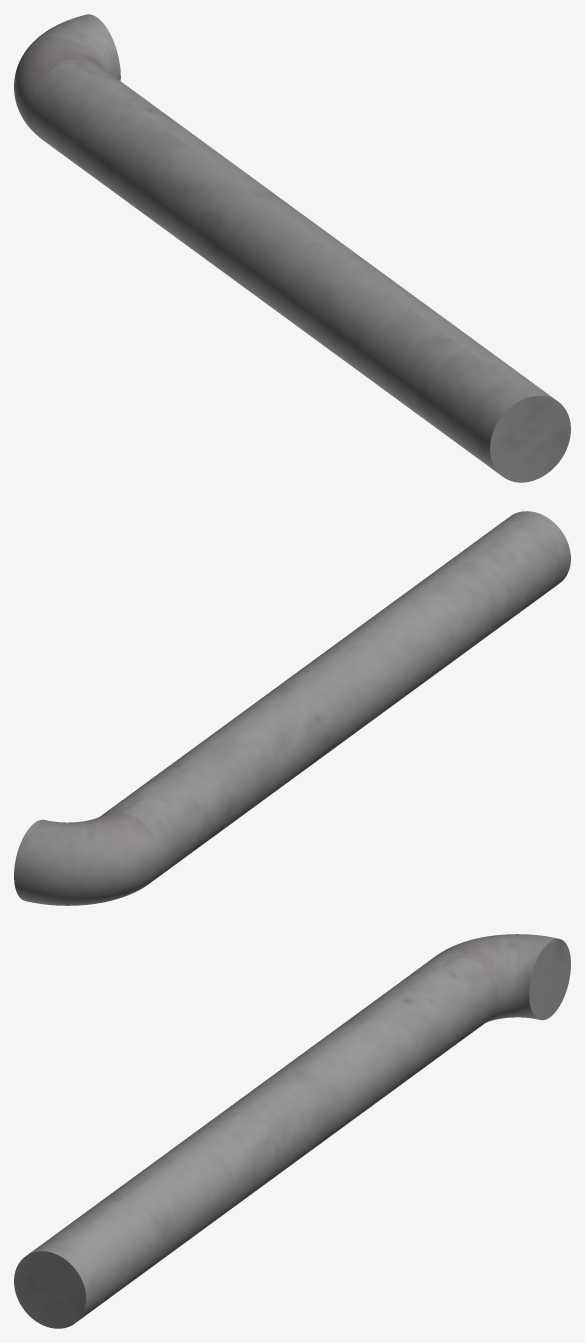
Rendered from tubo_50_codo90.glb.
The picture shows the model from 3 angles, top to bottom: view 1: azimuth 30°, elevation 25°; view 2: azimuth 150°, elevation 25°; view 3: azimuth 330°, elevation 25°; orthographic projection. The views are drawn at different scales.
Visible parts, largest first — view 1: tubo50_90; view 2: tubo50_90; view 3: tubo50_90.
Part boxes in pixels (box(x1,y1,x2,y2)): tubo50_90: box(14, 14, 570, 482); tubo50_90: box(14, 511, 570, 905); tubo50_90: box(14, 934, 570, 1328).
Size of the model in its own units: 0.0654 by 0.0508 by 0.5654.
1 material, 1 textured.
